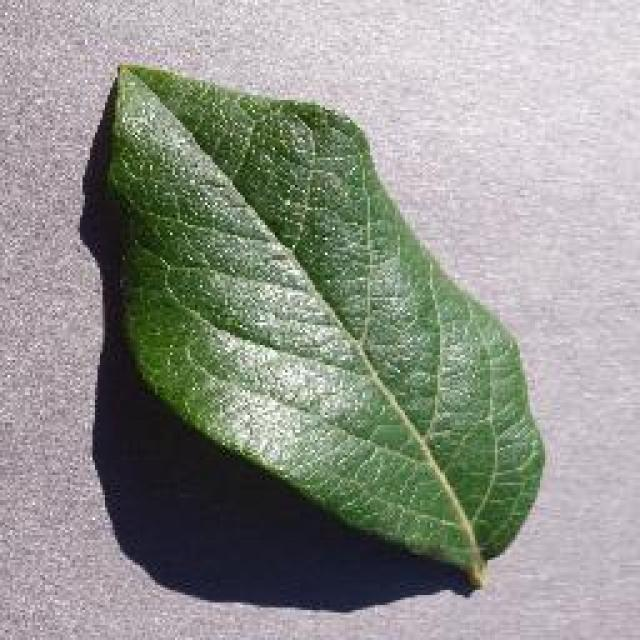Blu_healthy: (159, 128, 486, 498)
